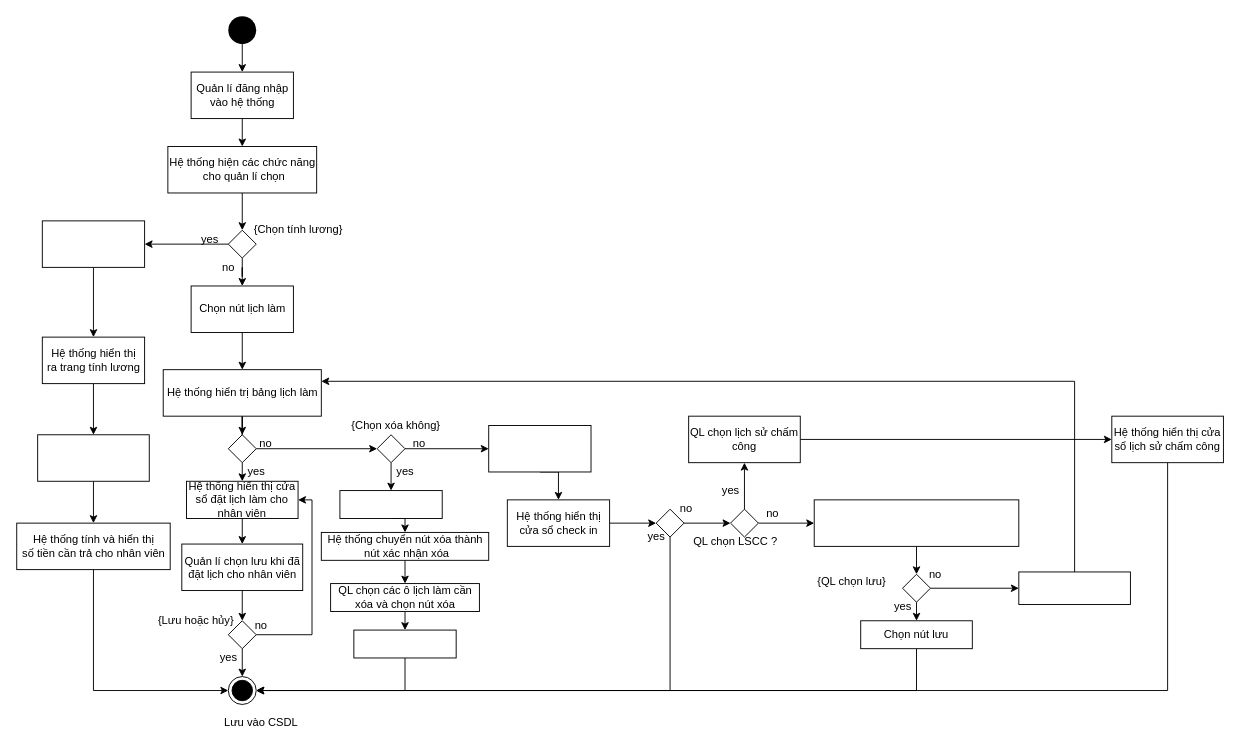
Some shapes in this 1240 by 748 pixel diagram are drawn without their labels. The shapes that lost their labels are listed below. From the top down, each one's centre as x and y in pixels, then its label:
the point at 93,243: Chọn nút tính lương
the point at 93,457: Quản lí nhập tiền vào phần trả nhân viên
the point at 539,448: Chọn vào ô lịch làm của nhân viên
the point at 390,504: Chọn nút Xóa
the point at 916,522: QL chọn thay đổi thời gian vào, thời gian ra
the point at 1074,587: Chọn nút hủy
the point at 404,643: Hệ thống xóa các ô lịch làm
